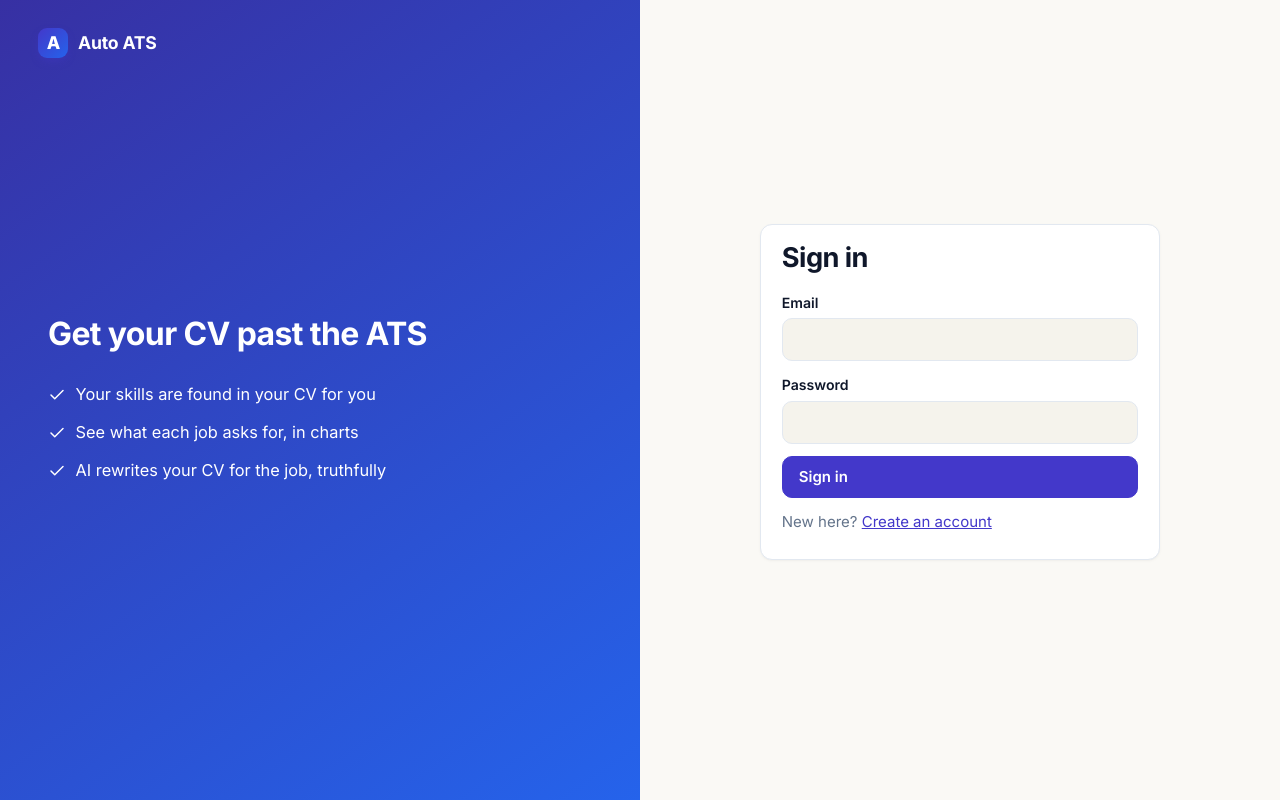
Test: LoginPage › GivenLoginPage_WhenClickingCreateAccount_ThenRegisterPageOpens
What coordinates should you click on to do the following:
click the link "Create an account"
I would click on:
 (927, 522)
Its box is [862,512,992,531].
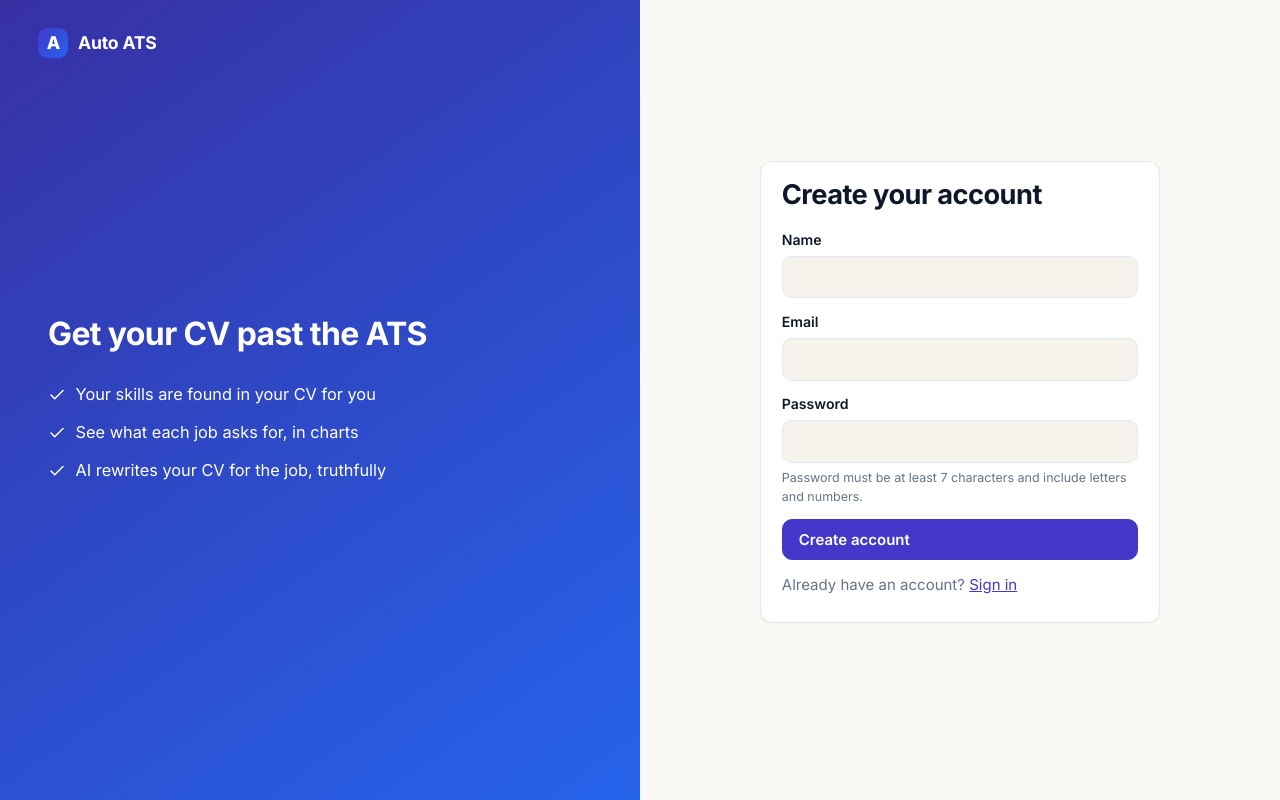
Result: the heading "Create your account" is shown at [782,178,1042,212]
